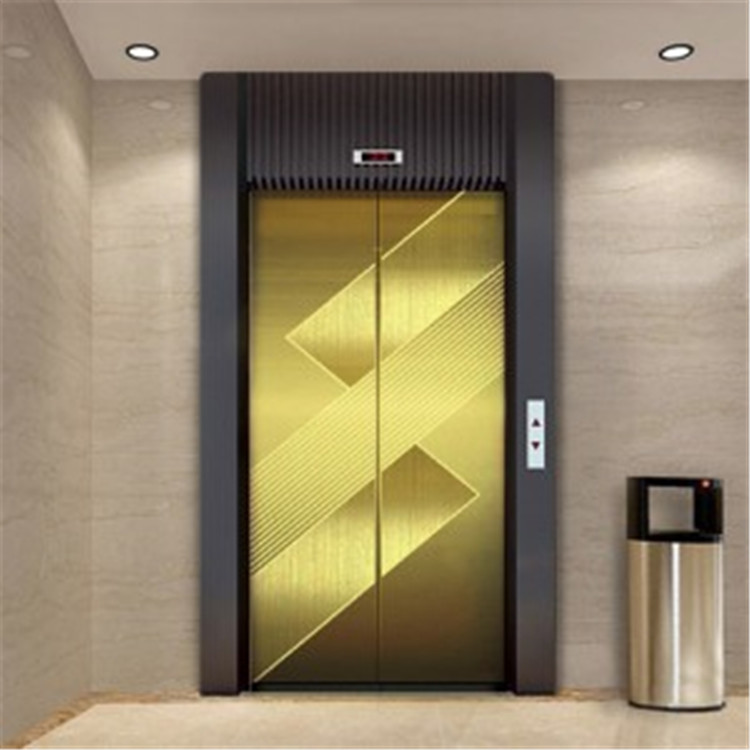elevator_panel: (524, 399, 549, 466)
waste_bin: (619, 472, 726, 709)
